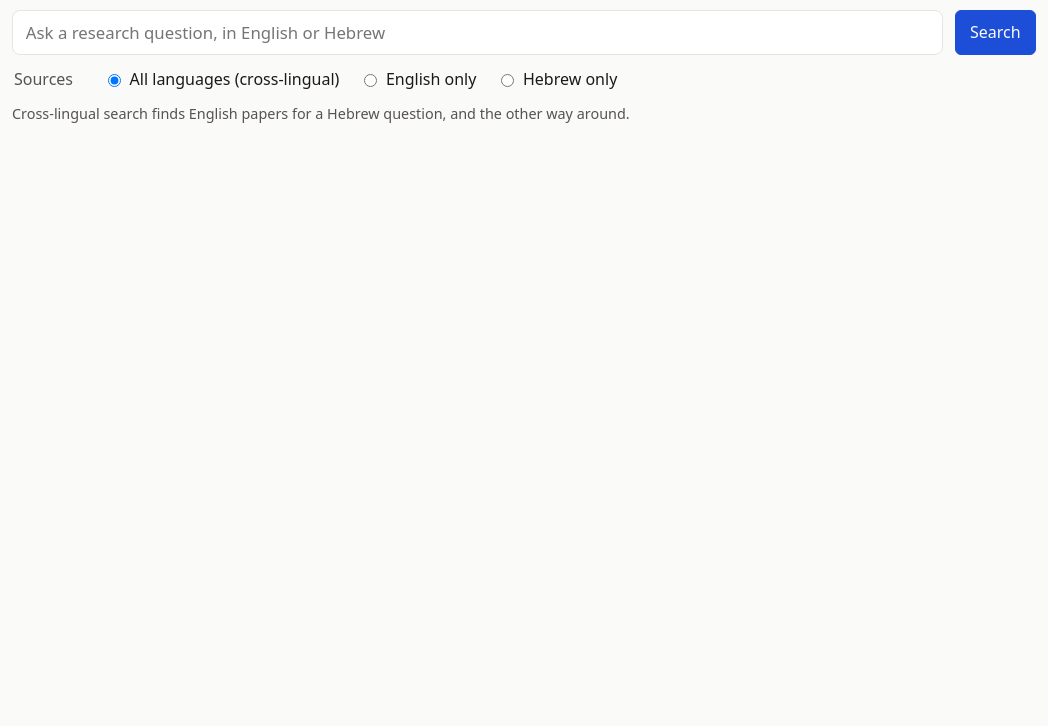
Scenario: online results › explains when there is no free PDF, and when a link is not a PDF
Type "sleep" into the search field at coordinates (477, 32), box [12,10,943,55]
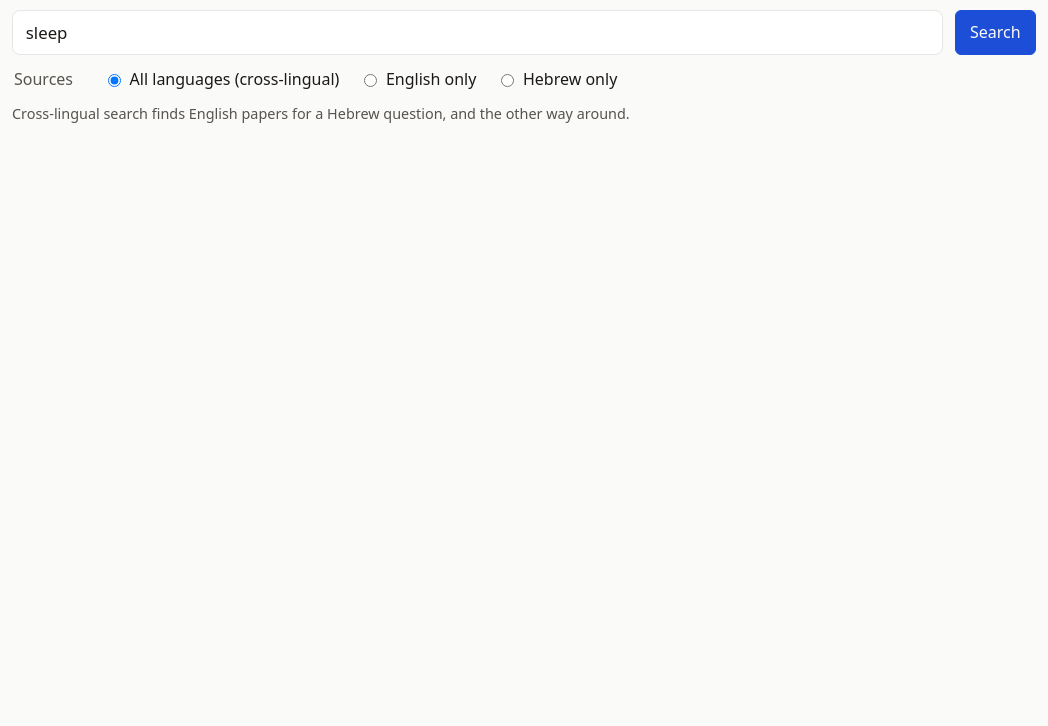
Click the button "Search" at coordinates (995, 32), box [955,10,1036,55]
(page scrolled)
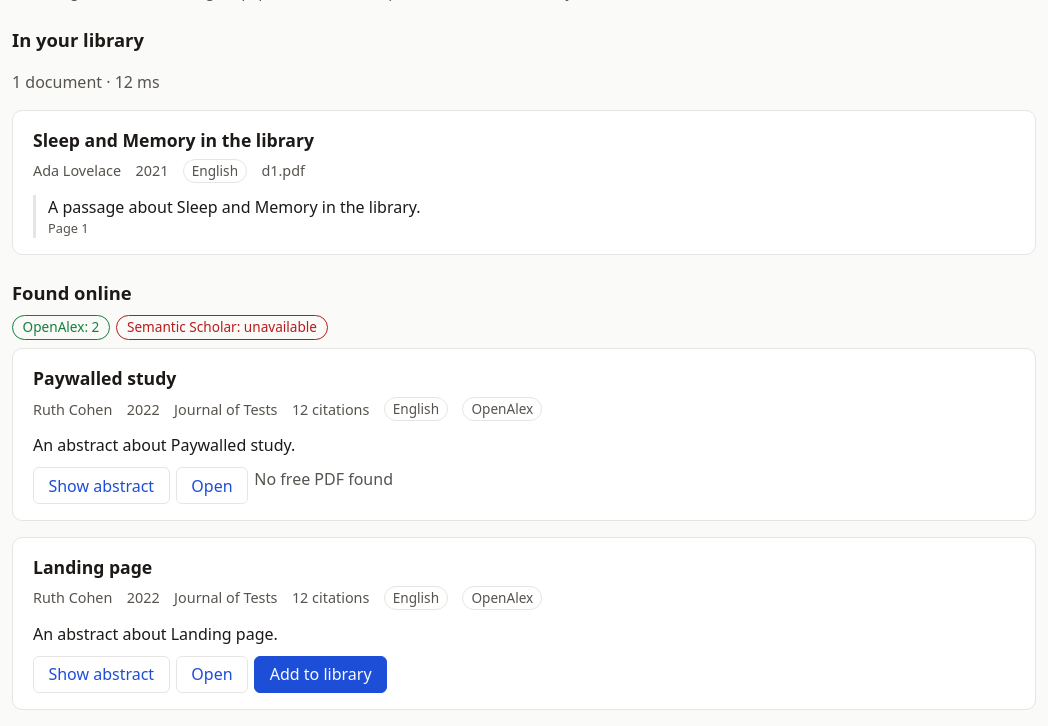
Expected: the text "No free PDF found" is shown, [254,468,393,490]
Click the button "Add to library" at coordinates (321, 674), box [254,656,387,693]
(page scrolled)
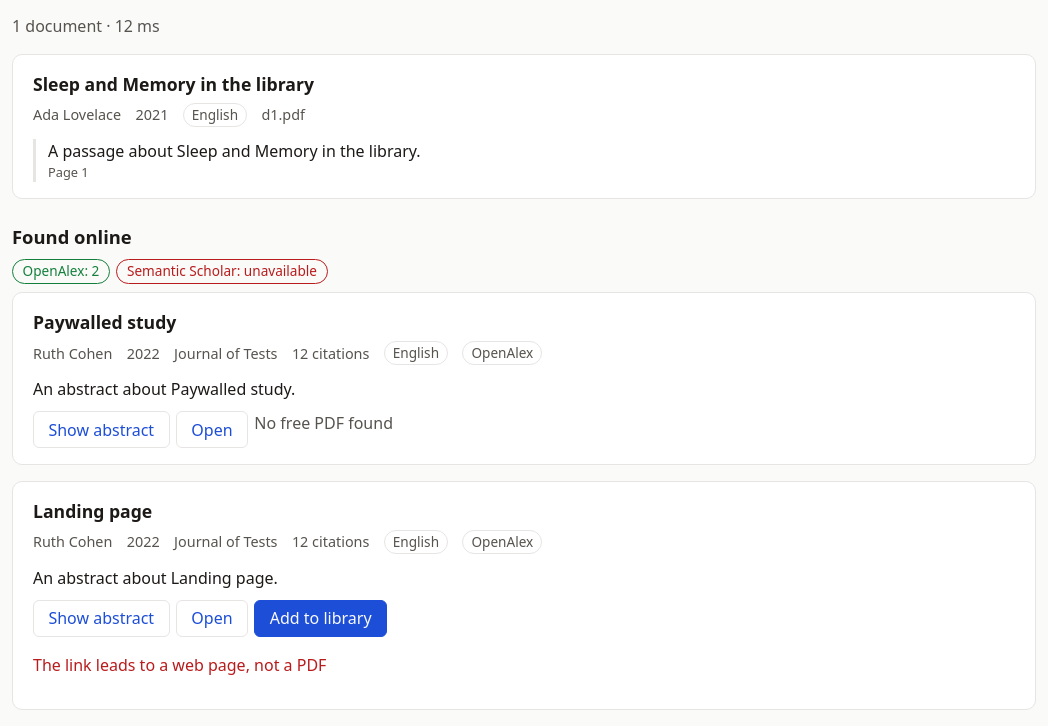
Expected: the message "The link leads to a web page, not a PDF" is shown, [33,654,326,676]
